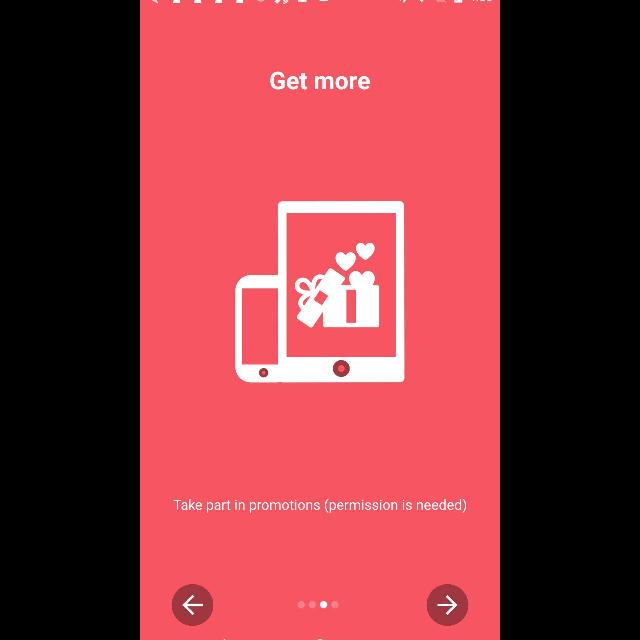button: (426, 584, 469, 626), (172, 584, 214, 626)
image: (235, 201, 405, 383)
pageindicator: (297, 600, 339, 610)
text: (173, 498, 467, 514), (270, 71, 370, 91)
